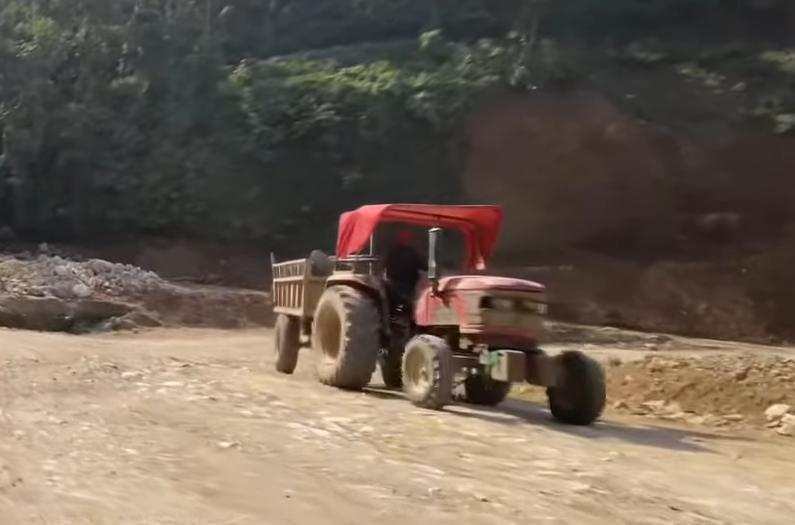tractor: (314, 199, 617, 435)
